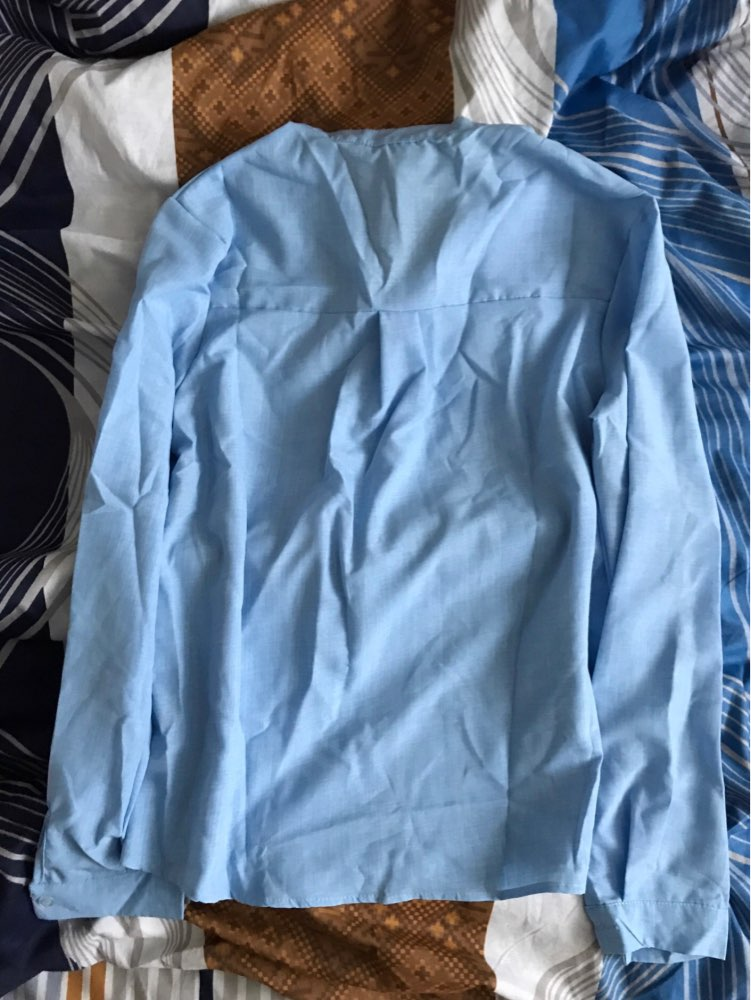shirts: (32, 122, 735, 945)
